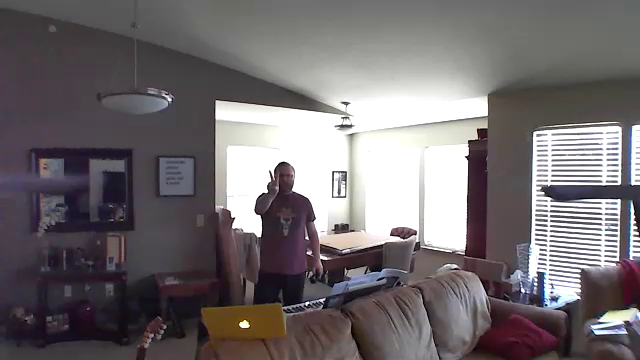peace: (263, 168, 284, 201)
